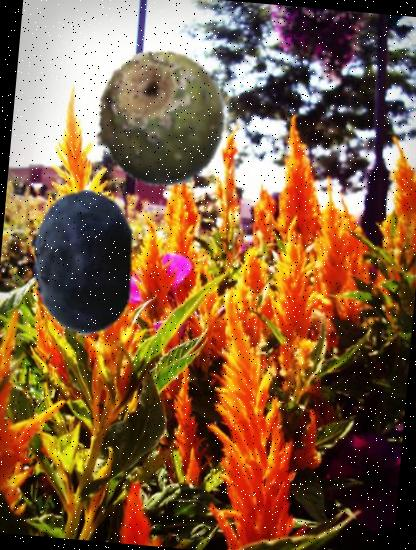Blueberry: (3, 184, 160, 341)
Cactus: (82, 45, 233, 196)
